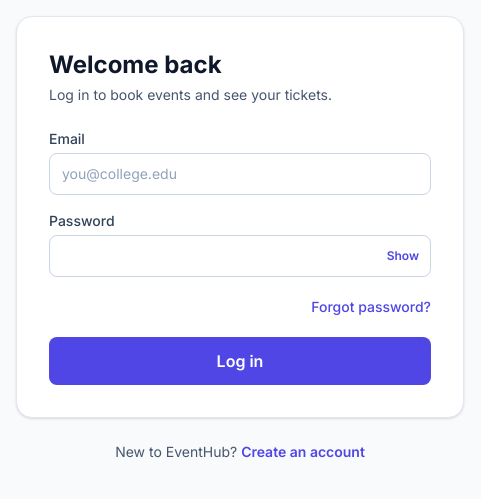
Test case: LoginPage › checks the email format when you leave the field
Type "ravi@college" into the field labelled "Email" at (240, 174), box 49,153 -> 431,195
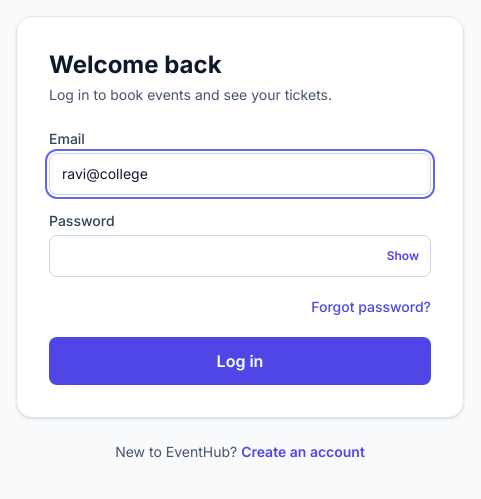
Press Tab
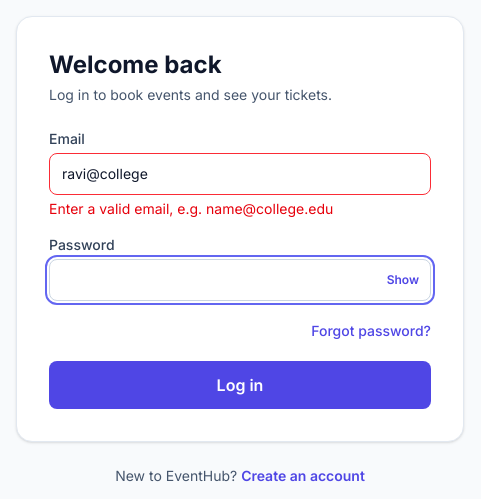
Check: the text "Enter a valid email, e.g. name@college.edu" is shown, box 49,200 -> 333,217
